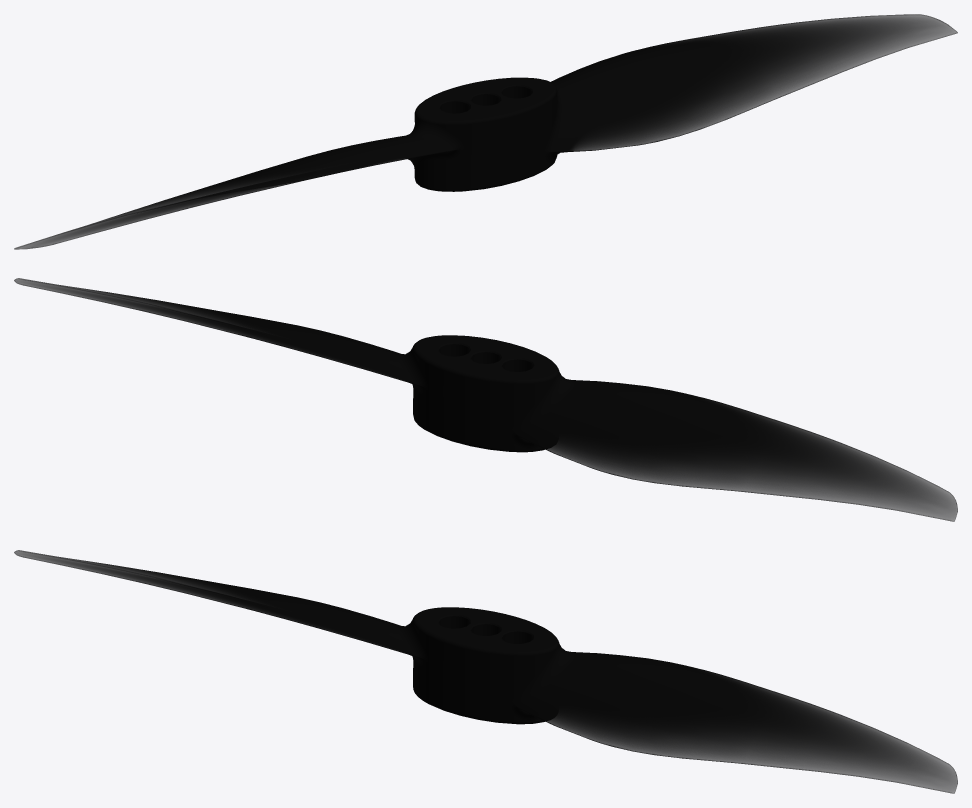
3 views of the same model, one above another, from view 1: azimuth 30°, elevation 25°; view 2: azimuth 150°, elevation 25°; view 3: azimuth 330°, elevation 25° (orthographic). The views are drawn at different scales.
Parts seen in each view (by area): view 1: Prop3in; view 2: Prop3in; view 3: Prop3in.
Part boxes in pixels (box(x1,y1,x2,y2)): Prop3in: box(14, 14, 957, 249); Prop3in: box(14, 278, 957, 521); Prop3in: box(14, 550, 957, 793).
Size of the model in its own units: 0.0752 by 0.0055 by 0.00713.
1 material, 1 textured.
